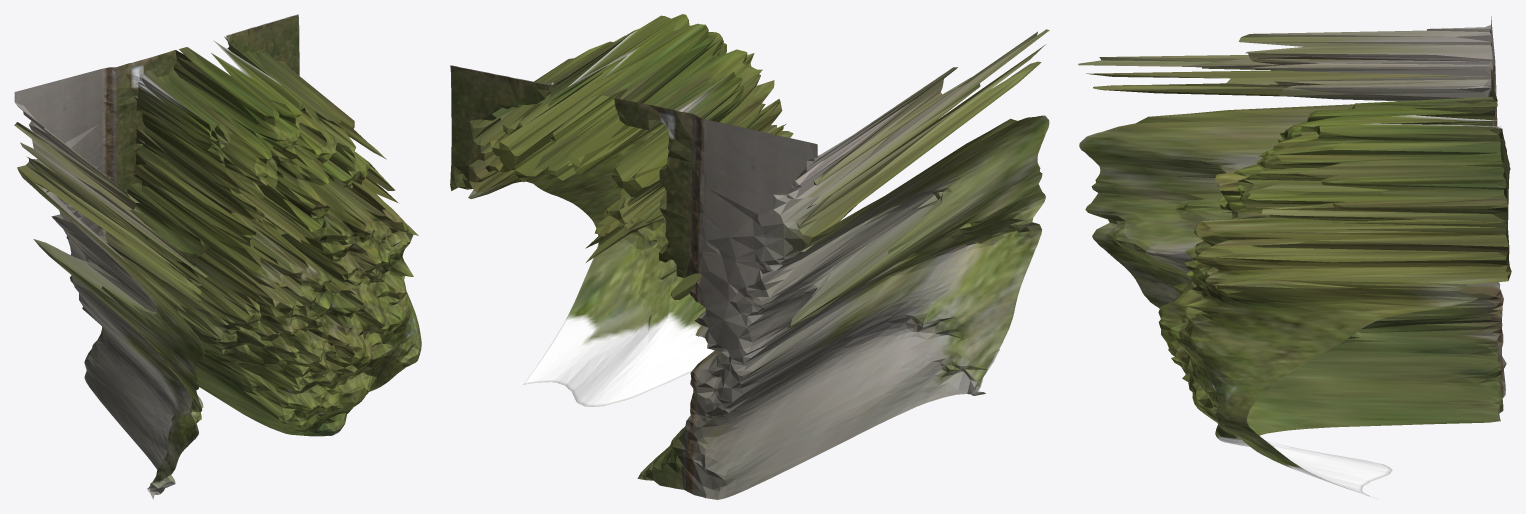
File: map_10_90.obj
The picture shows the model from 3 angles, left to right: view 1: azimuth 30°, elevation 25°; view 2: azimuth 150°, elevation 25°; view 3: azimuth 270°, elevation 25°; orthographic projection. The views are drawn at different scales.
Parts seen in each view (by area): view 1: grp1; view 2: grp1; view 3: grp1.
Part boxes in pixels (<box>): grp1: <box>14,14,421,499</box>; grp1: <box>450,14,1049,499</box>; grp1: <box>1078,16,1511,499</box>.
Size of the model in its own units: 10 by 10 by 11.85.
Materials: 1 (1 with a texture image).
